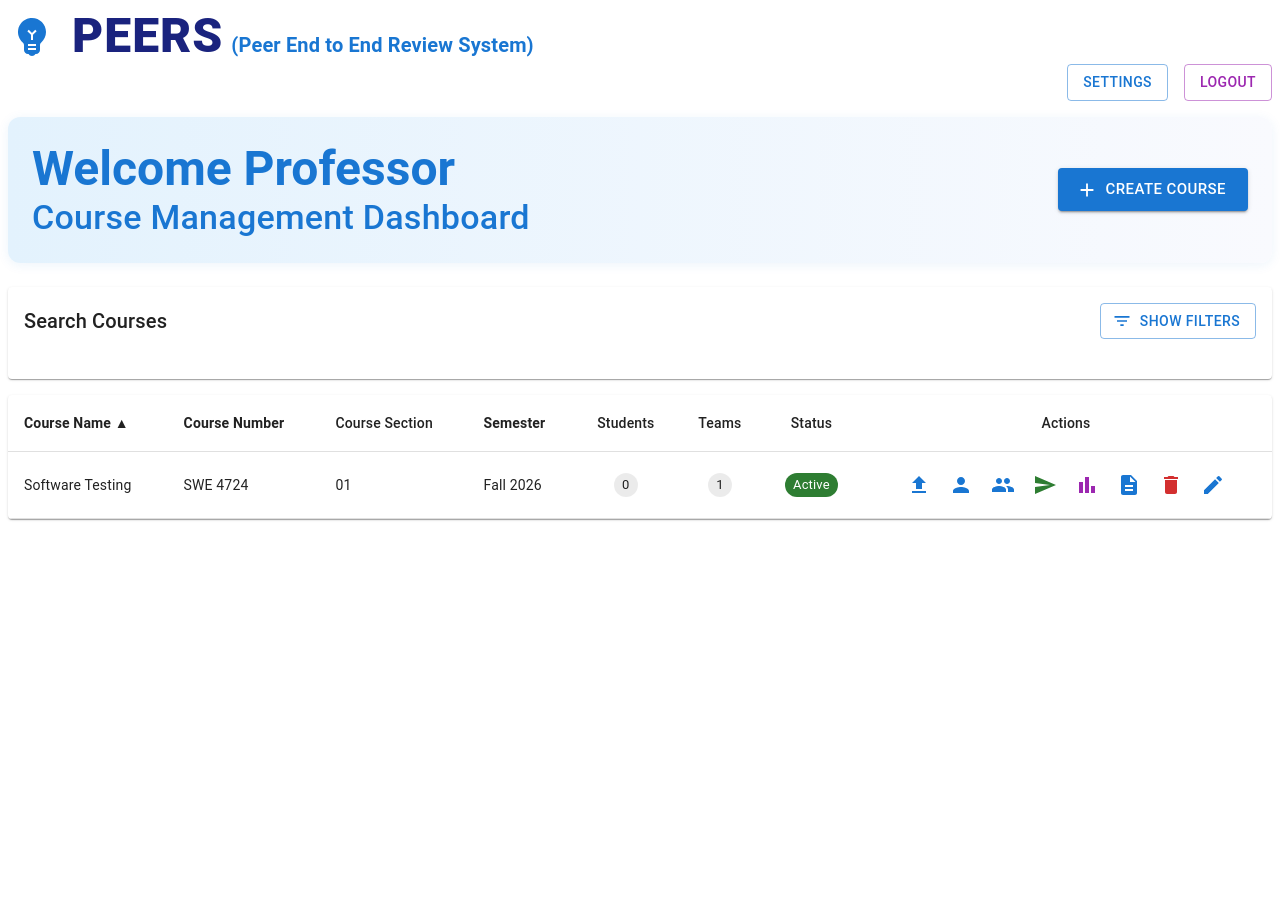
Test: CourseManagement reset sequencing › does not add membership when evaluation reset fails and retains the membership UI
Click the button titled "Manage Teams".
click(1003, 485)  # box left=986, top=468, right=1020, bottom=502
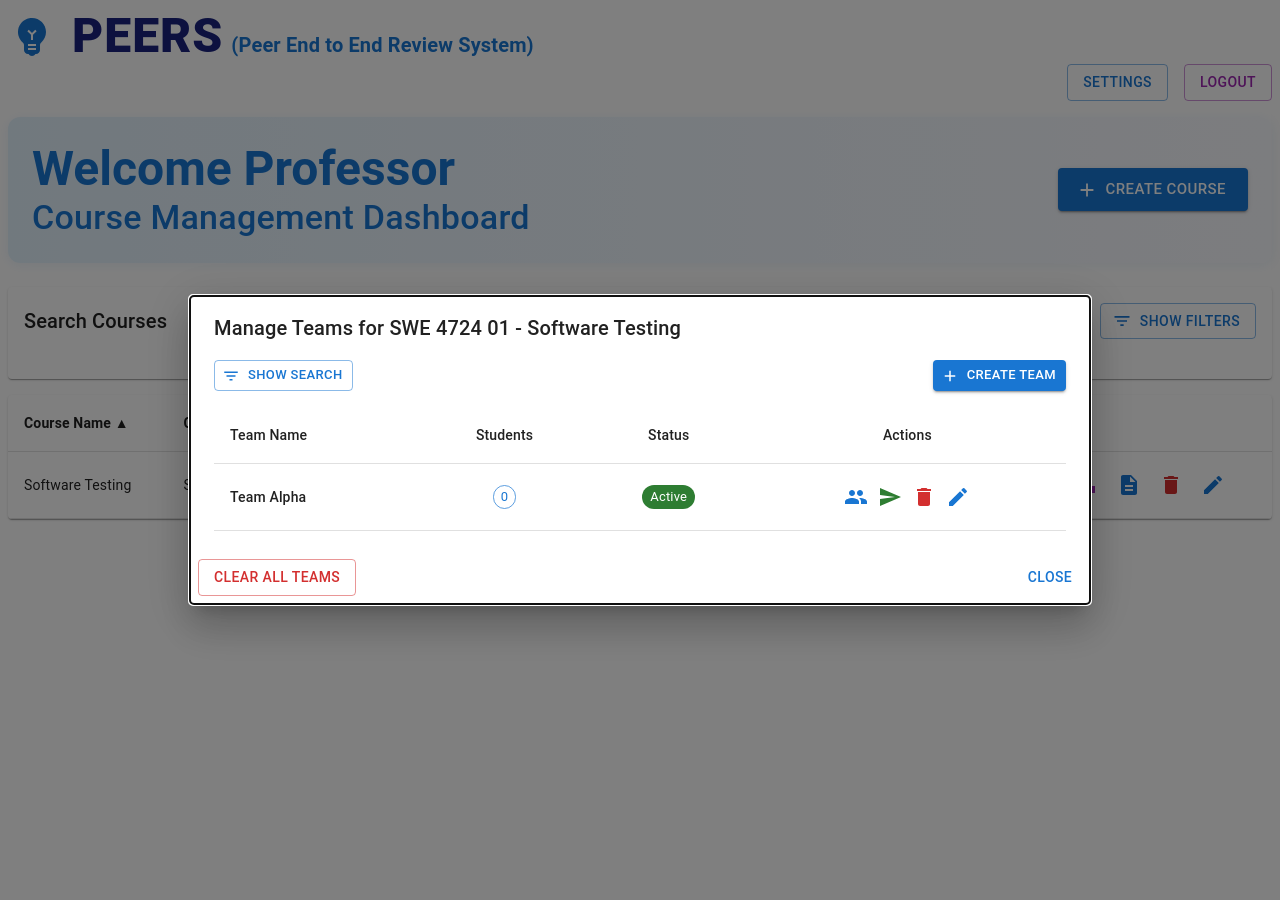
Click the button titled "Manage Students".
click(856, 497)  # box left=839, top=480, right=873, bottom=514
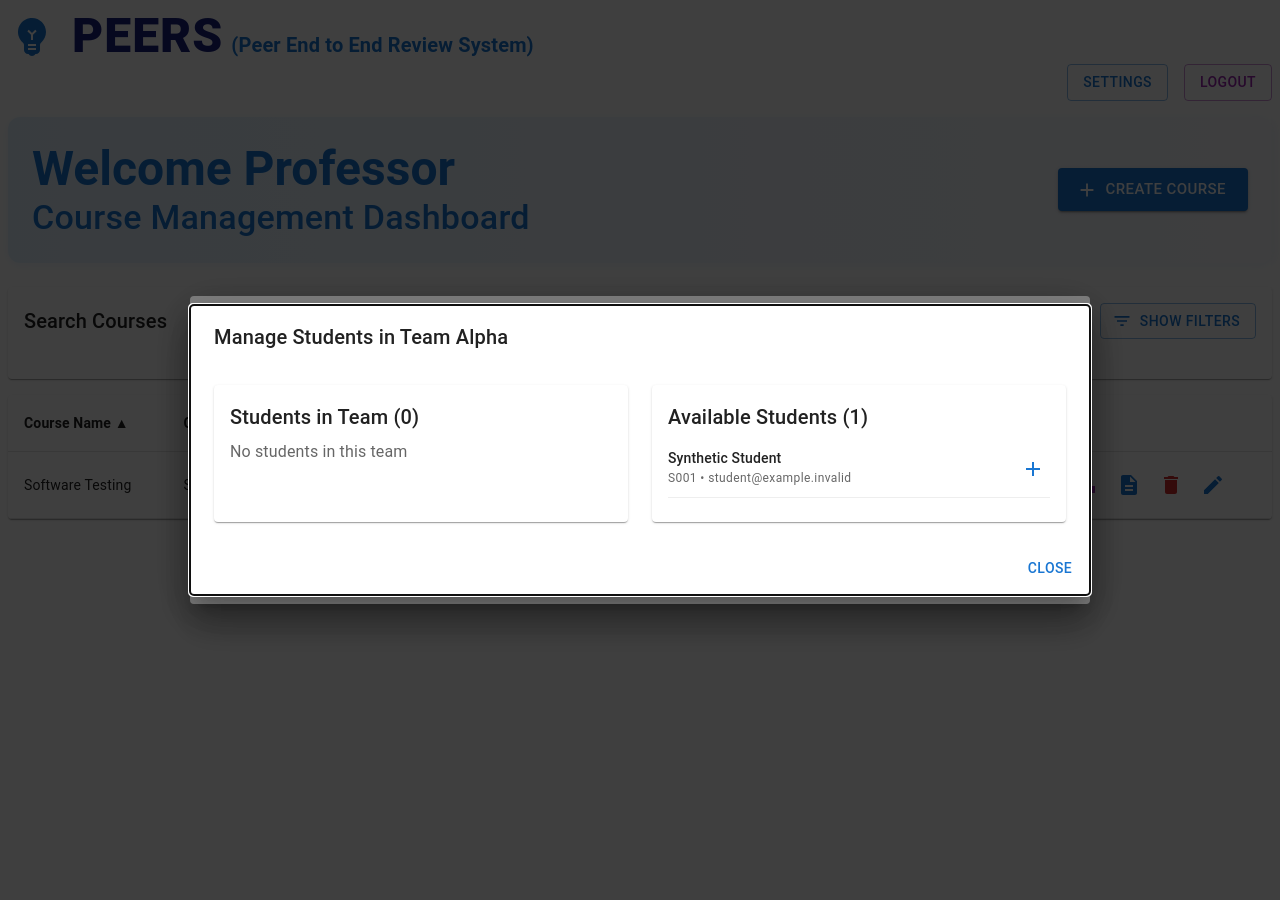
Click the button titled "Add to team".
click(1033, 469)  # box left=1016, top=452, right=1050, bottom=486
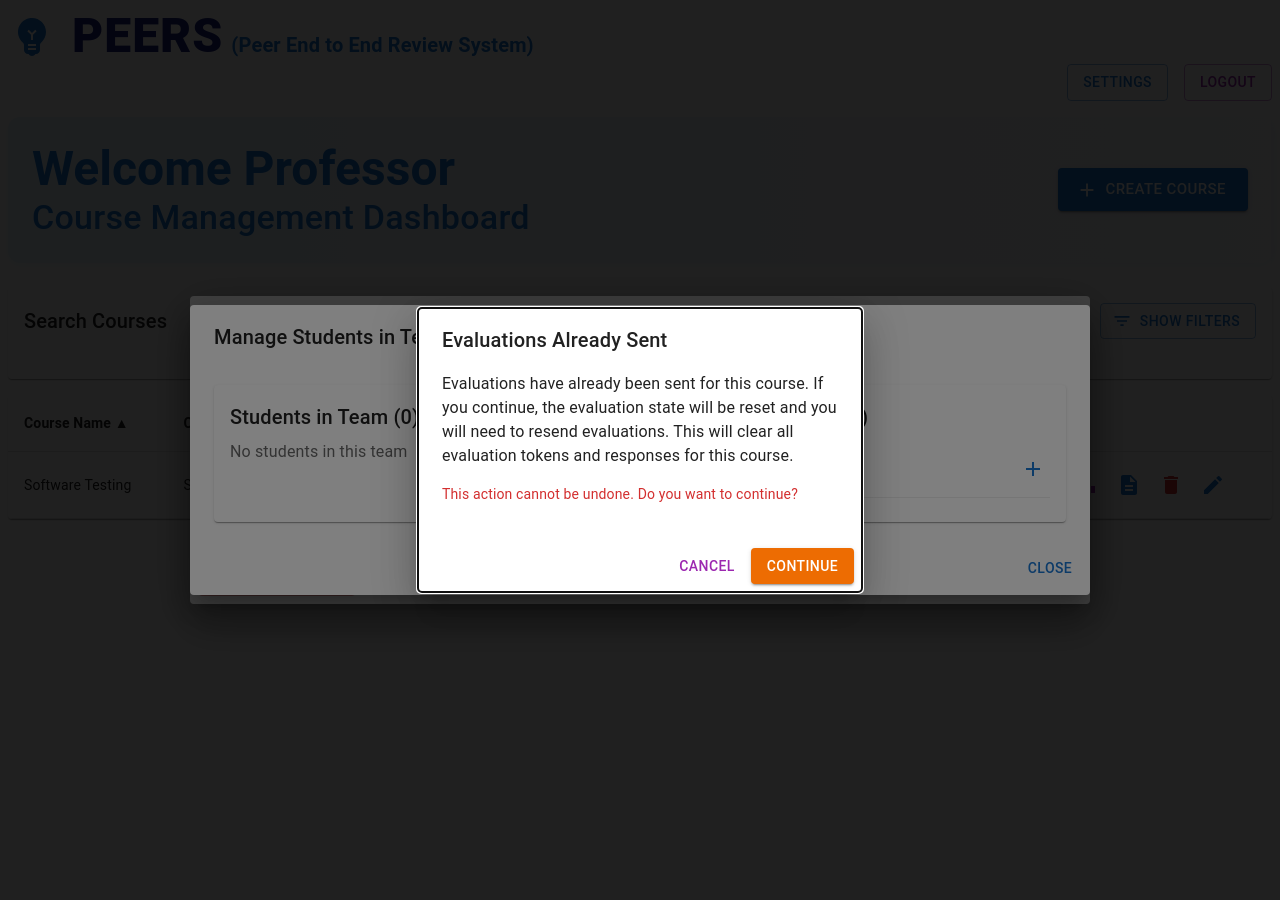
Click the button "Continue".
click(802, 566)  # box left=751, top=548, right=854, bottom=584
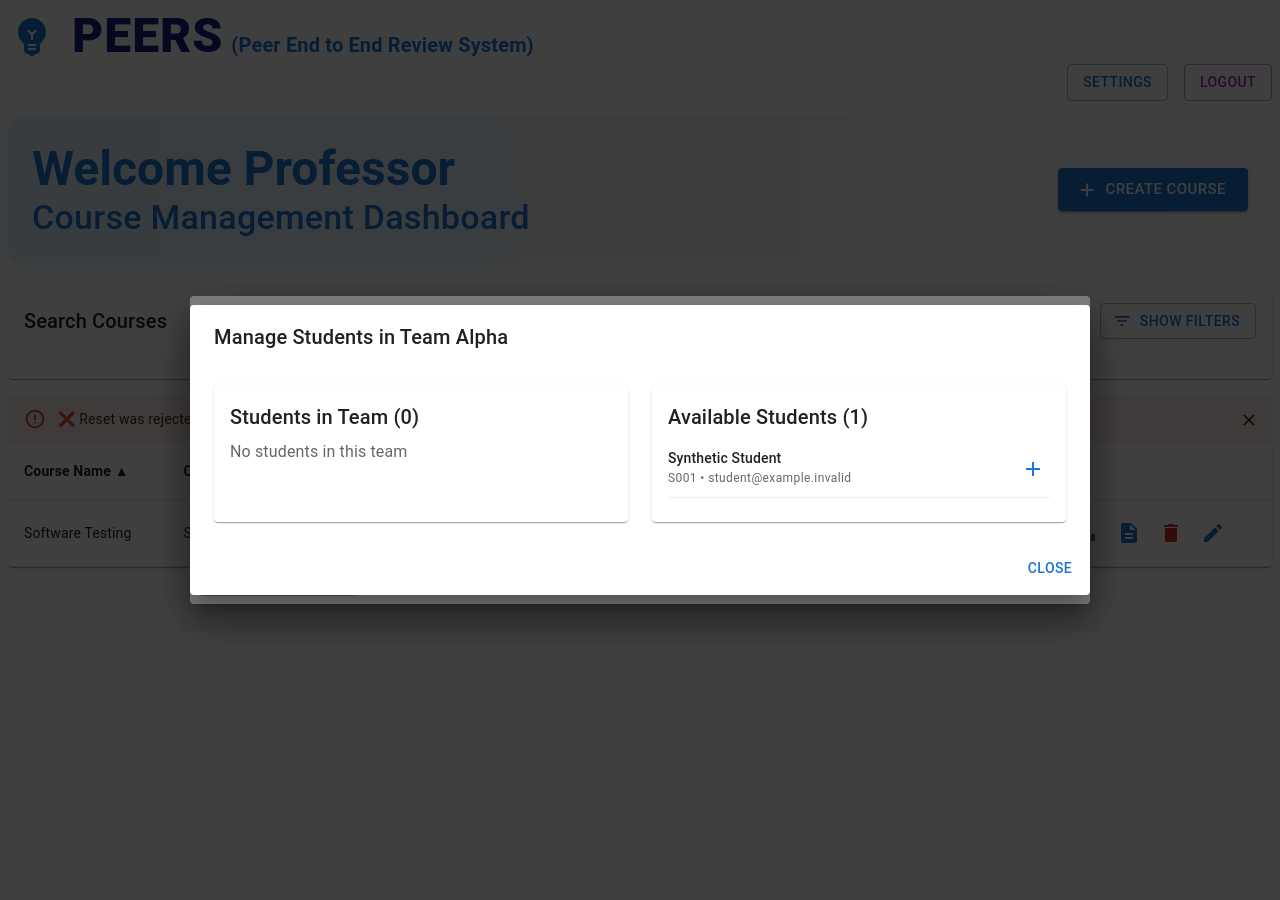
Result: the heading "Students in Team (0)" is shown at left=230, top=405, right=419, bottom=429
Result: the heading "Available Students (1)" is shown at left=668, top=405, right=868, bottom=429
Result: the text "❌ Reset was rejected" is shown at left=58, top=411, right=200, bottom=427
